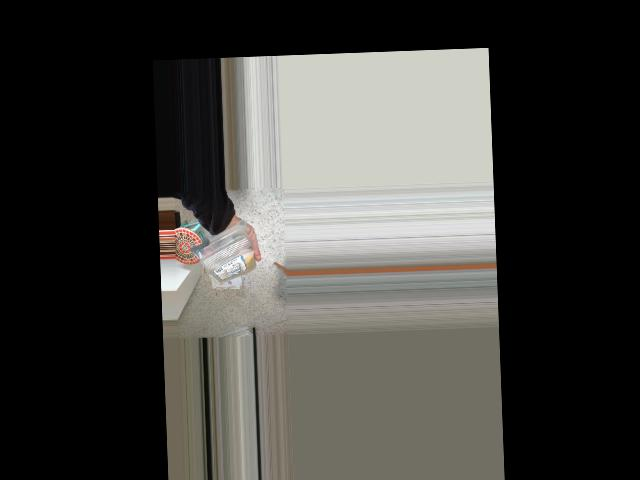cheese: (185, 219, 255, 296)
